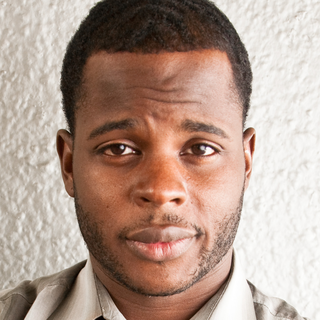eye: (87, 138, 146, 164), (175, 133, 225, 162)
